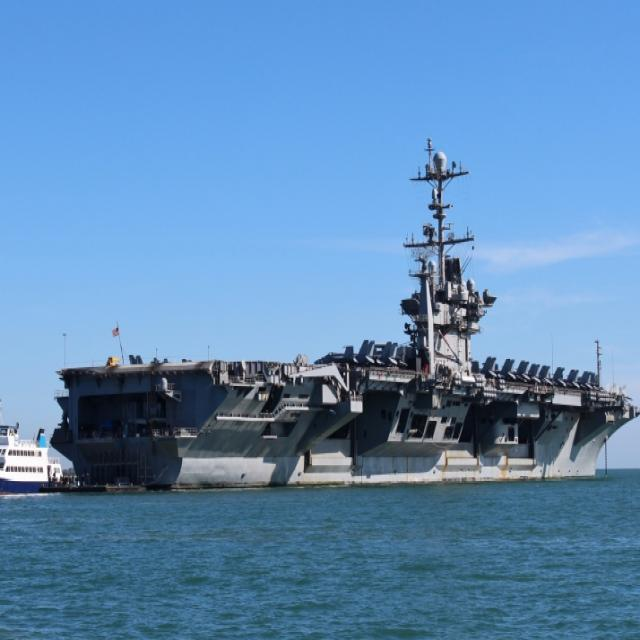Portanaves: (46, 130, 640, 500)
